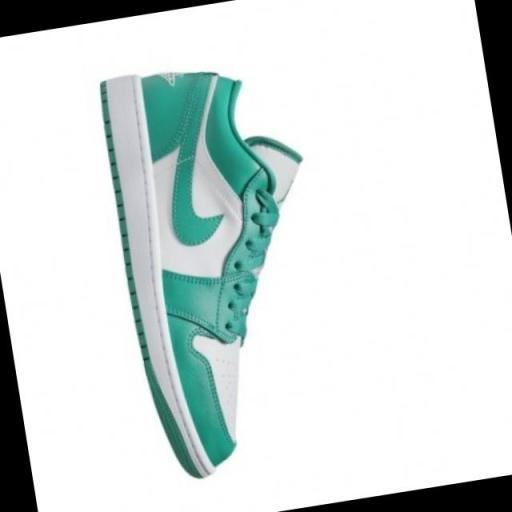Nike: (149, 78, 236, 256)
